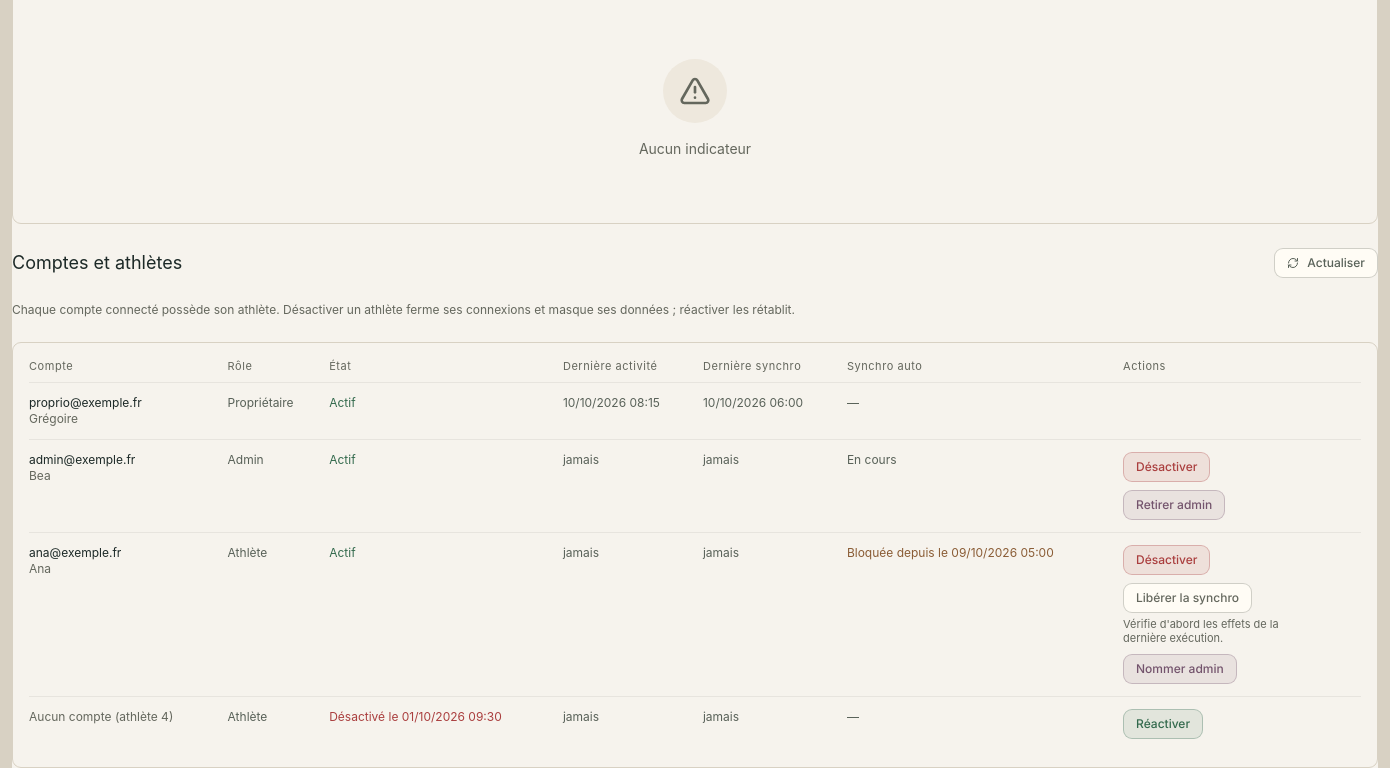
it: shows the server reason when an action is refused
(page scrolled)
Click the button "Désactiver" in the row of "ana@exemple.fr".
click(1167, 560)  # box [1123,545,1210,575]
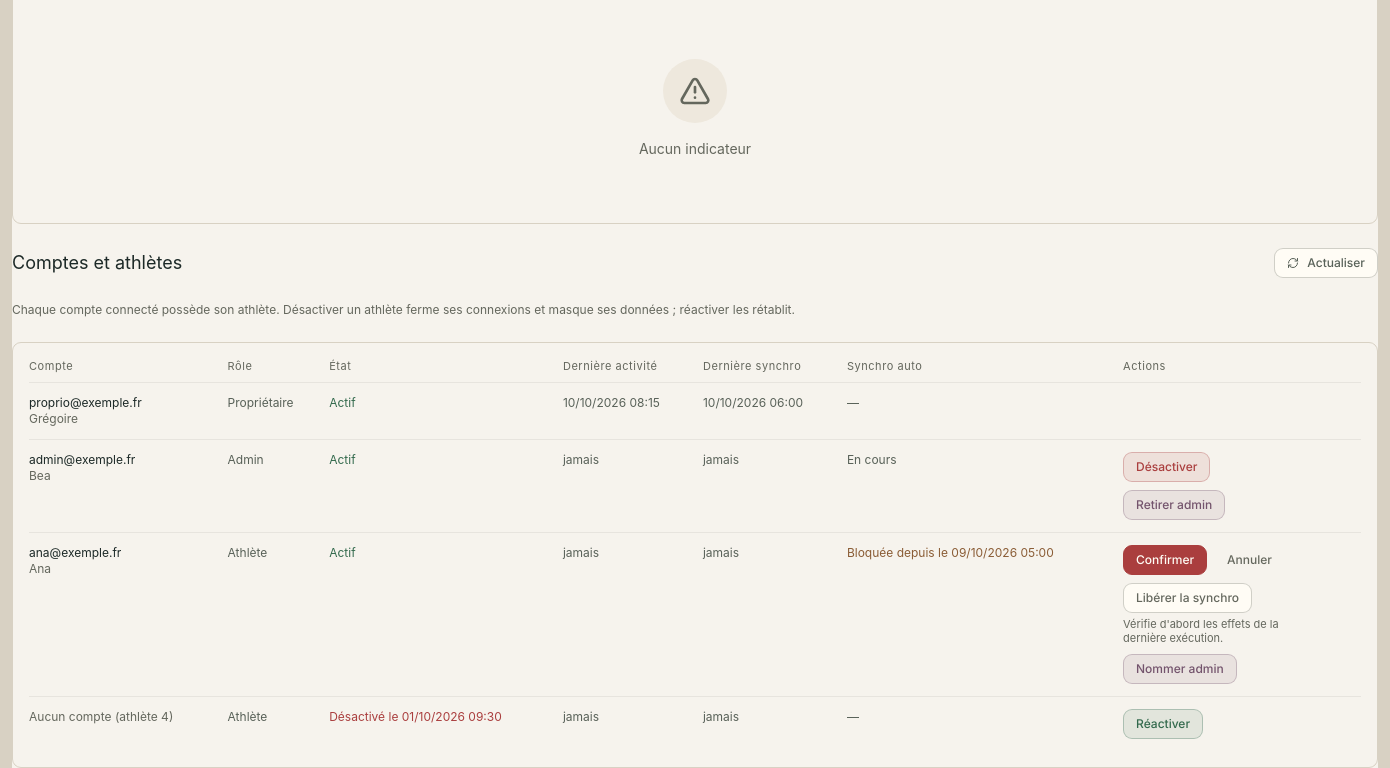
Click the button "Confirmer".
click(1165, 560)  # box [1123,545,1207,575]
(page scrolled)
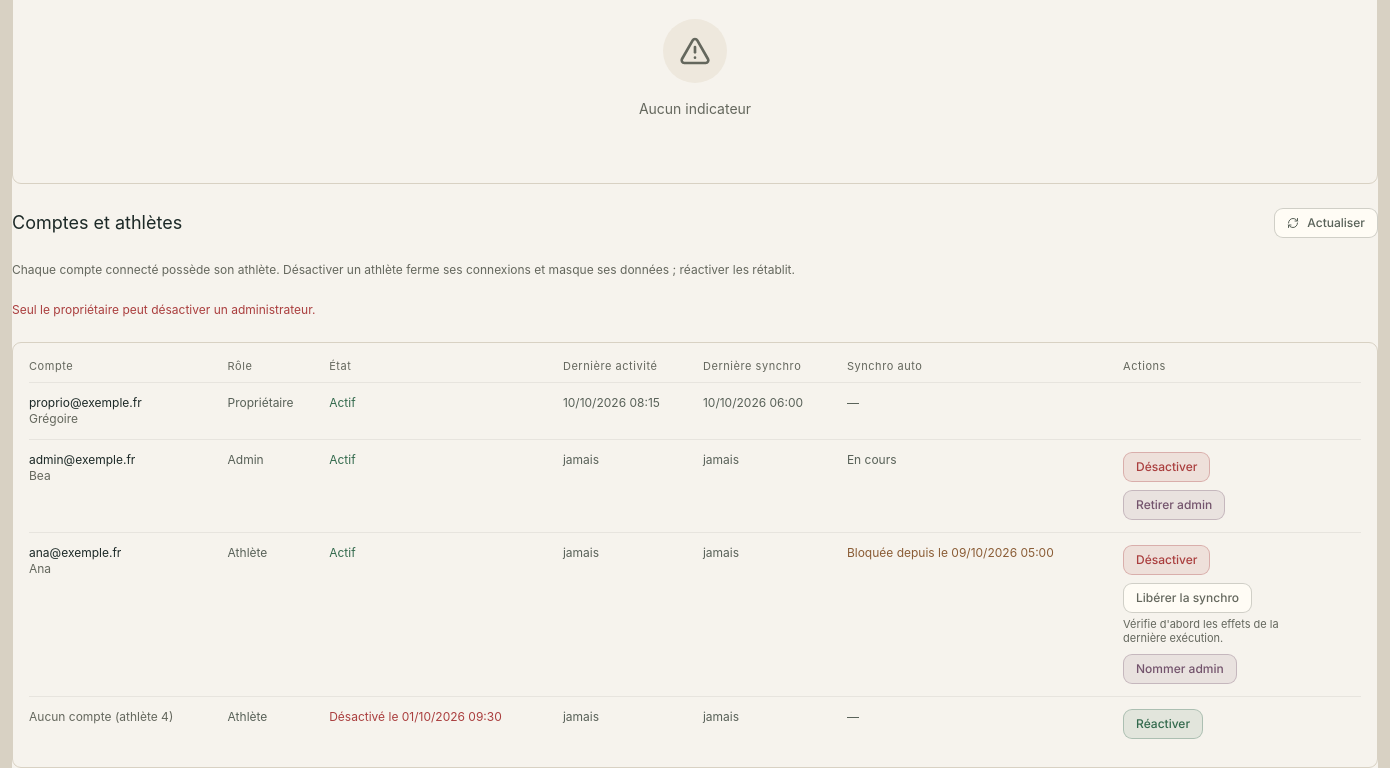
Expected: the message reads "Seul le propriétaire peut désactiver un administrateur.", [12,302,315,317]
Expected: the button "Désactiver" in the row of "ana@exemple.fr" is shown, [1123,545,1210,575]
// Without a reason from the server, a generic one.
Click the button "Réactiver".
click(1163, 724)  # box [1123,709,1203,739]
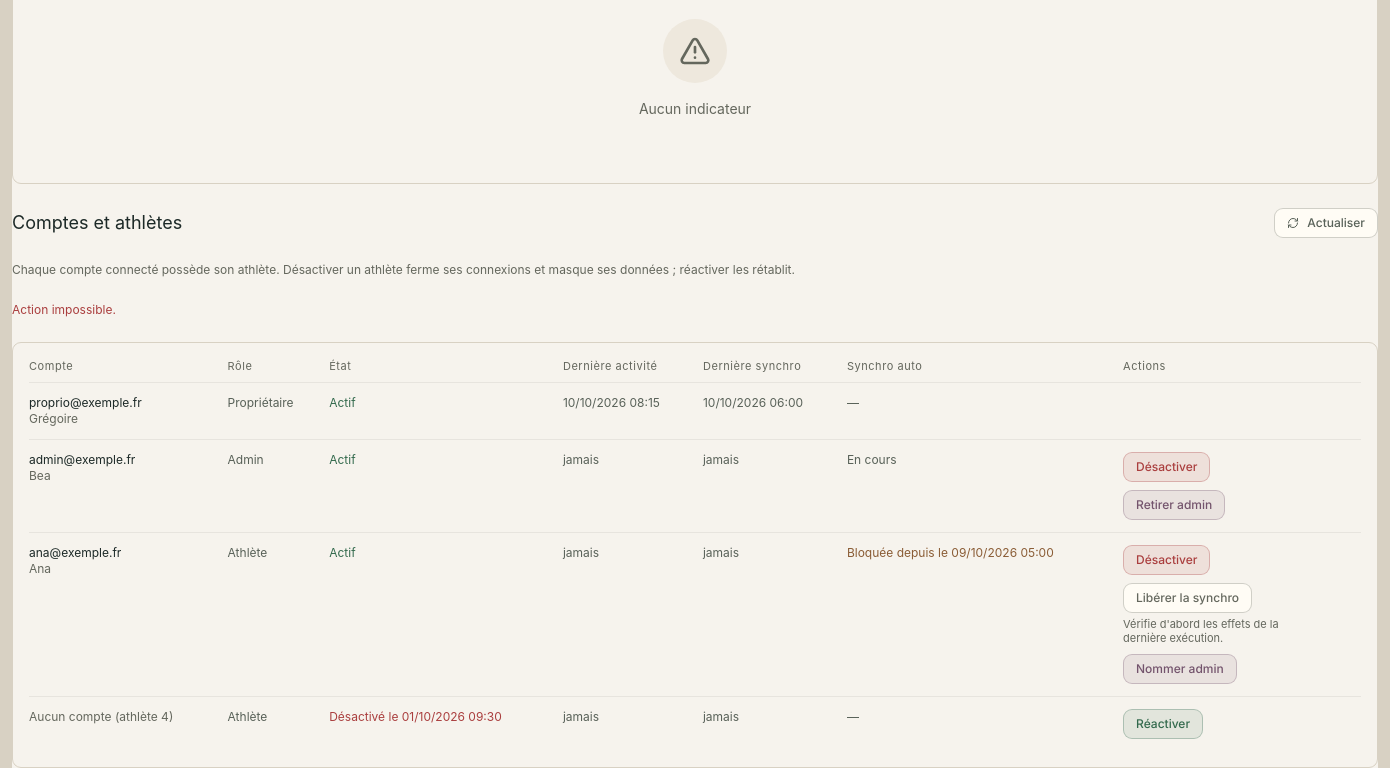
Expected: the message reads "Action impossible.", [12,302,116,317]
